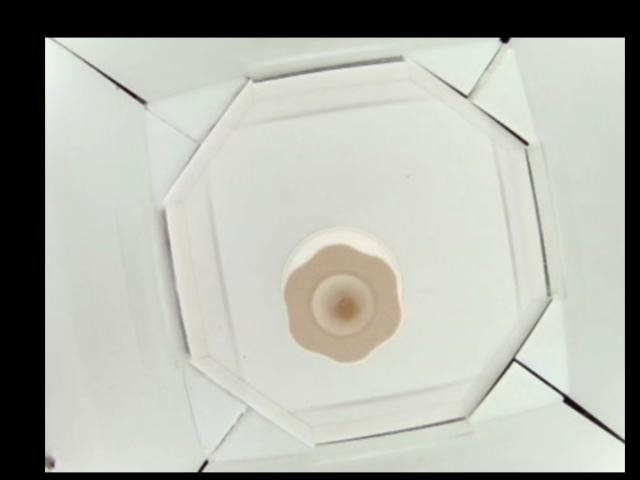Cup: (285, 228, 403, 368)
